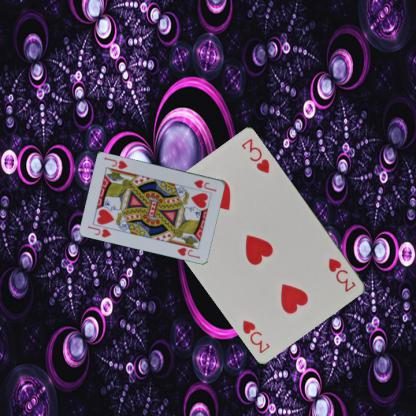3h: (326, 255, 358, 293)
Jh: (192, 177, 218, 193), (86, 223, 112, 239)
